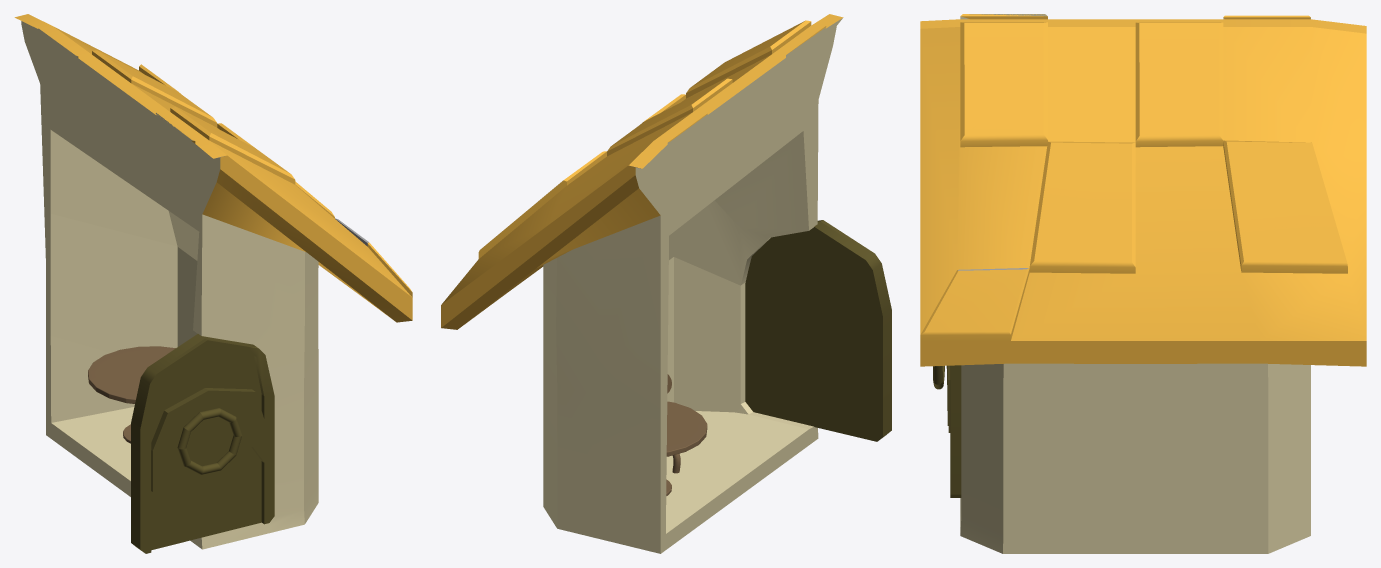
The model's file is maison.fbx.
3 renders of one model, left to right at view 1: azimuth 30°, elevation 25°; view 2: azimuth 150°, elevation 25°; view 3: azimuth 270°, elevation 25°, orthographic. The views are drawn at different scales.
Parts seen in each view (by area): view 1: maison, porte, tableronde:pCylinder1; view 2: maison, porte, tableronde:pCylinder1; view 3: maison, porte.
Part boxes in pixels (left/top/right/bottom): maison: left=14, top=14, right=412, bottom=549; porte: left=131, top=334, right=274, bottom=553; tableronde:pCylinder1: left=88, top=346, right=175, bottom=443; maison: left=441, top=14, right=843, bottom=553; porte: left=745, top=220, right=891, bottom=441; tableronde:pCylinder1: left=666, top=401, right=707, bottom=495; maison: left=920, top=14, right=1366, bottom=553; porte: left=933, top=365, right=961, bottom=497.
Size of the model in its own units: 5.09 by 7.72 by 6.74.
